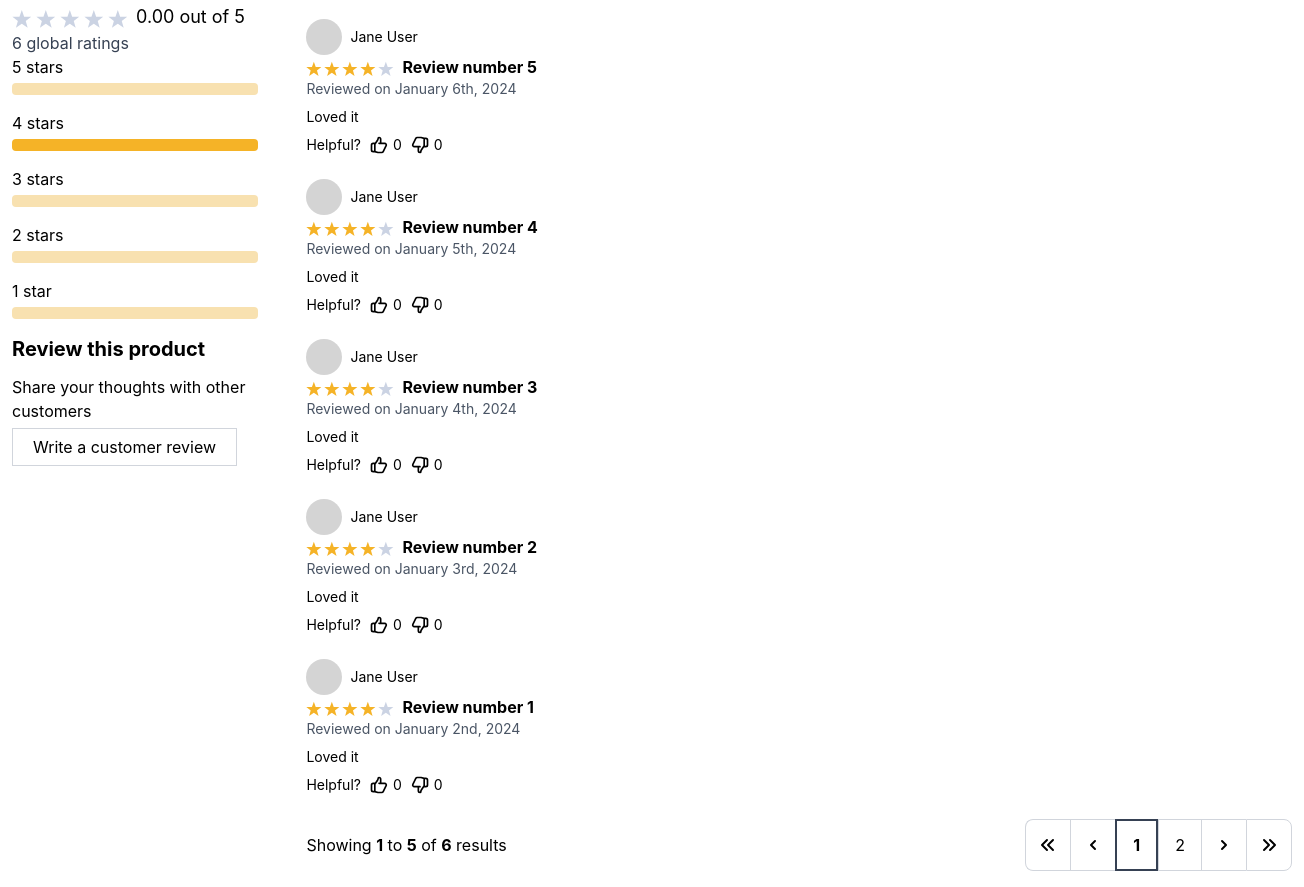
shows the other page of reviews when "Page 2" is clicked
(page scrolled)
Expected: the text "Review number 5" is shown, left=402, top=55, right=537, bottom=79
Click the button named "Page 2": (1180, 845) left=1158, top=819, right=1201, bottom=871
(page scrolled)
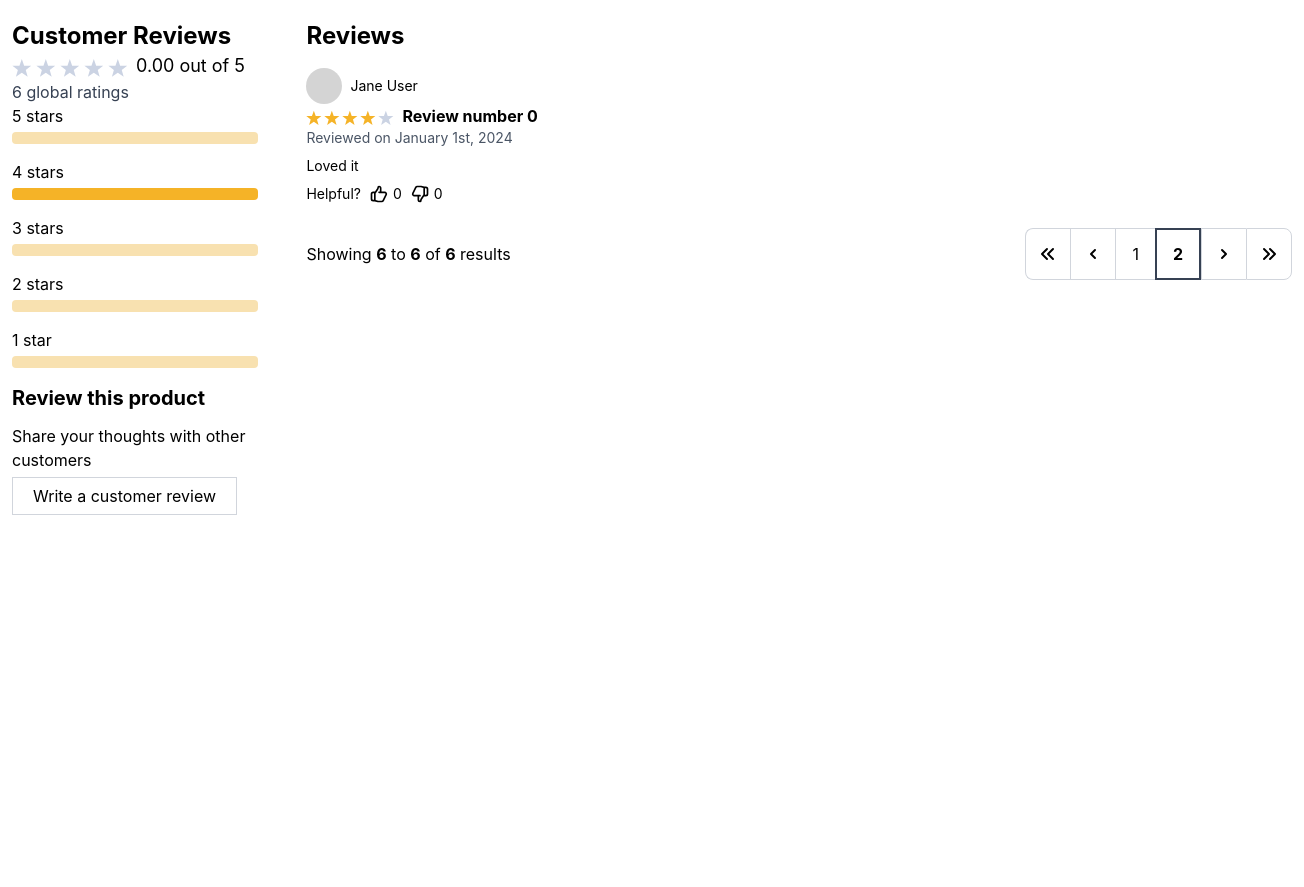
Now the text "Review number 0" is shown, box left=402, top=104, right=538, bottom=128
Now the text "Review number 5" is gone
